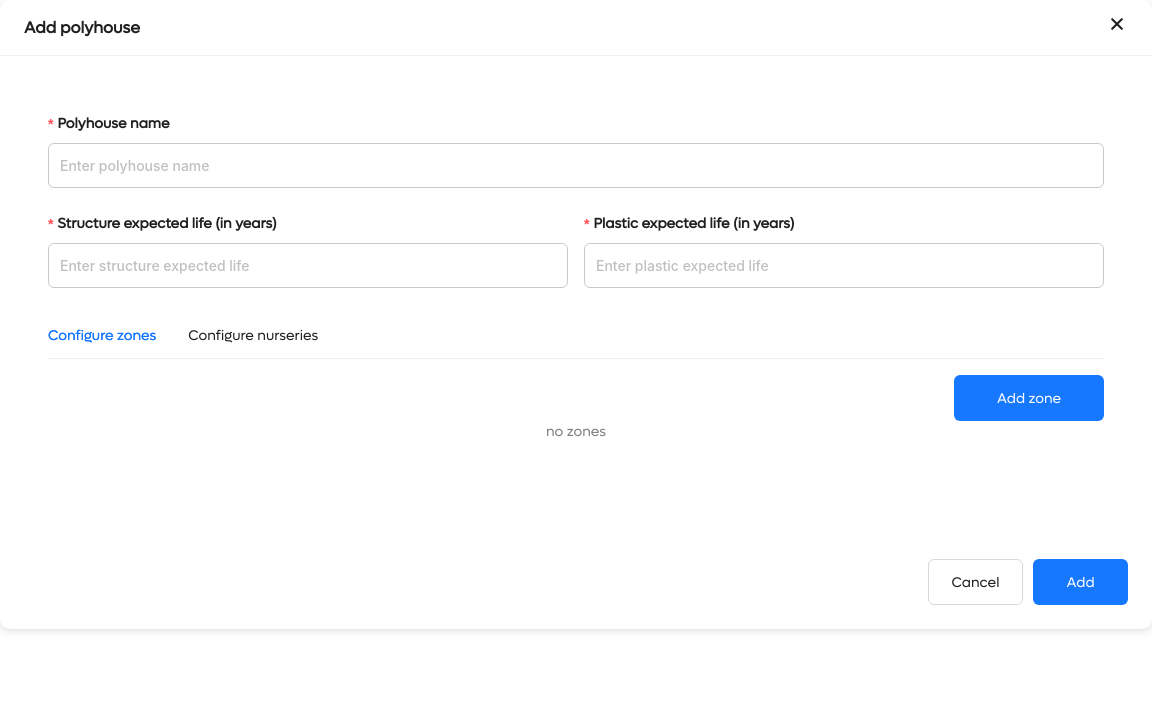
Test: Add polyhouse page › should open modal when Add Nursery button is clicked
Click the tab "Configure nurseries" at (253, 336), box [188,325,318,347]
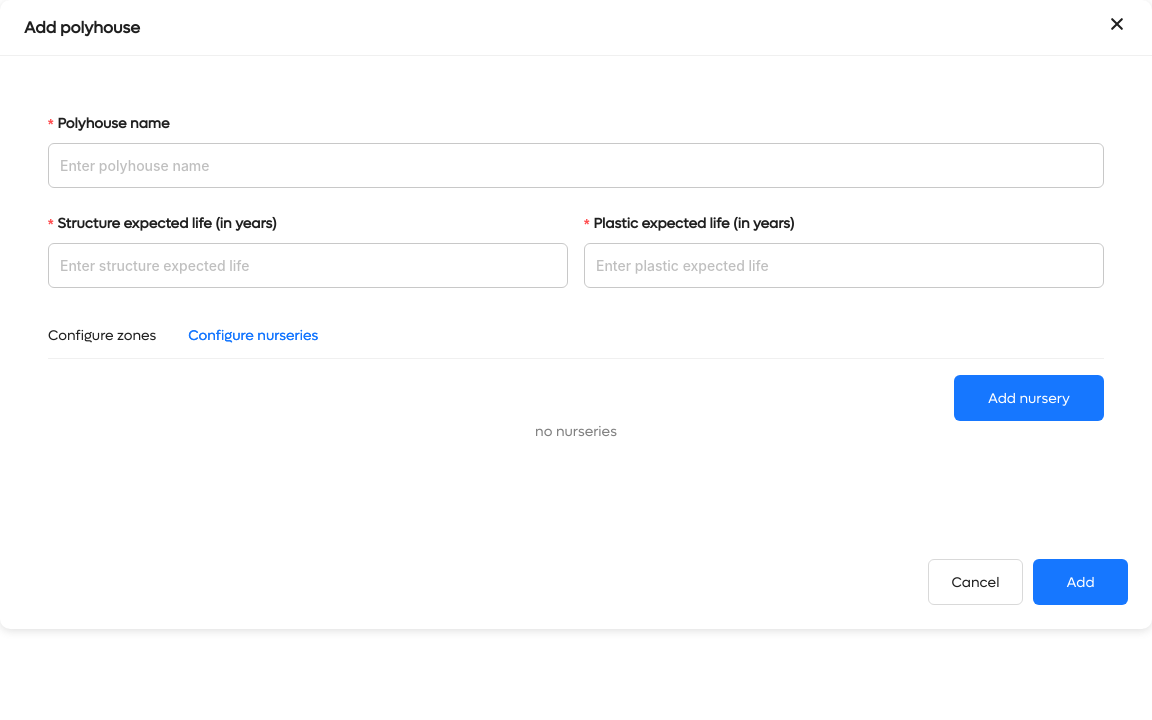
Expected: the text "Add nursery" is shown, [988,388,1070,408]
Click the button "Add nursery" at (1029, 398), box [954,375,1104,421]
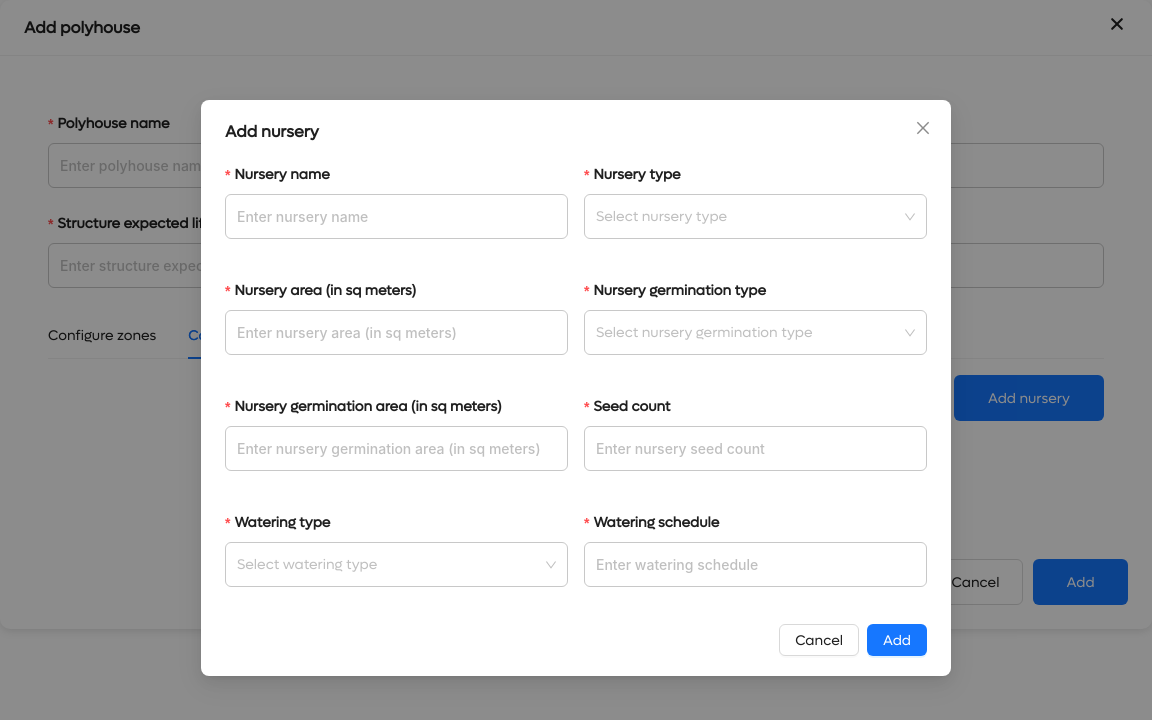
Expected: the text "Nursery name" is shown, [225,164,343,186]
Expected: the search field "Nursery type" is shown, [584,164,694,186]
